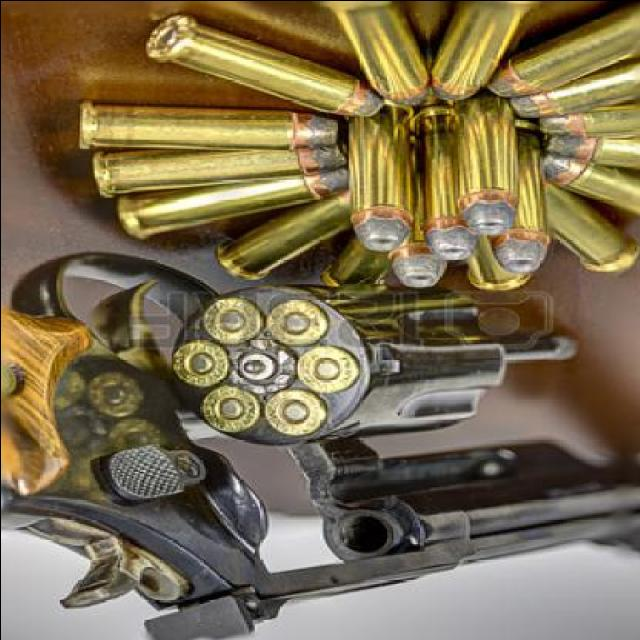pistol: (6, 256, 640, 640)
